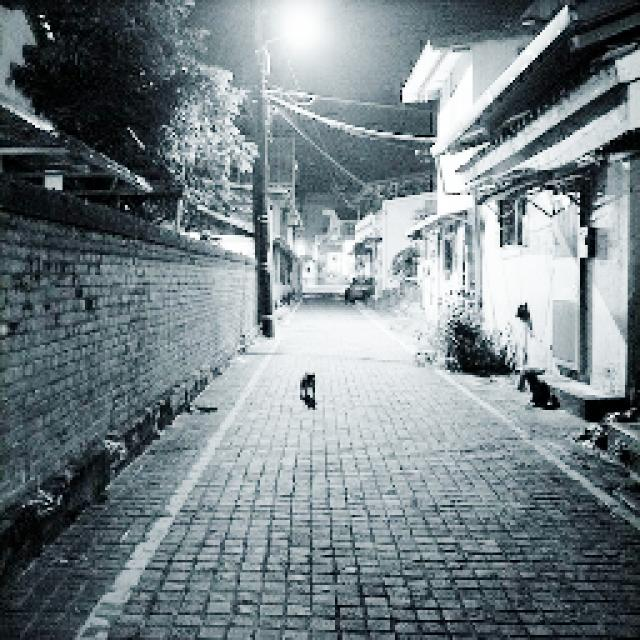cat: (281, 354, 334, 417)
